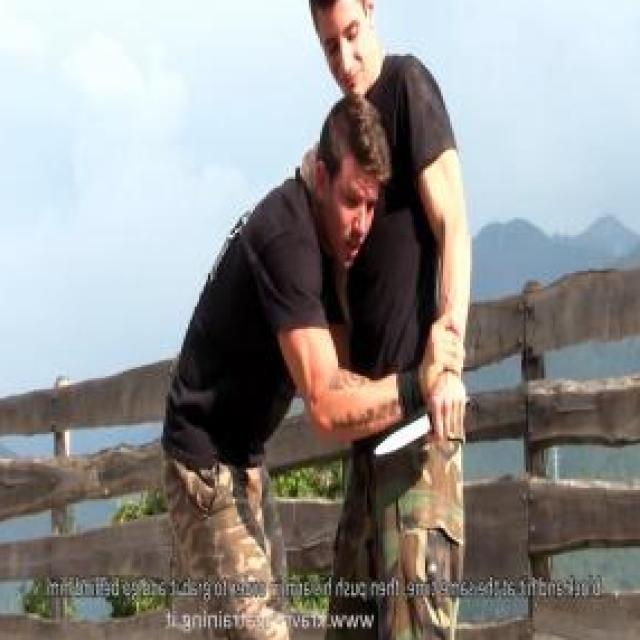knife: (370, 378, 474, 467)
